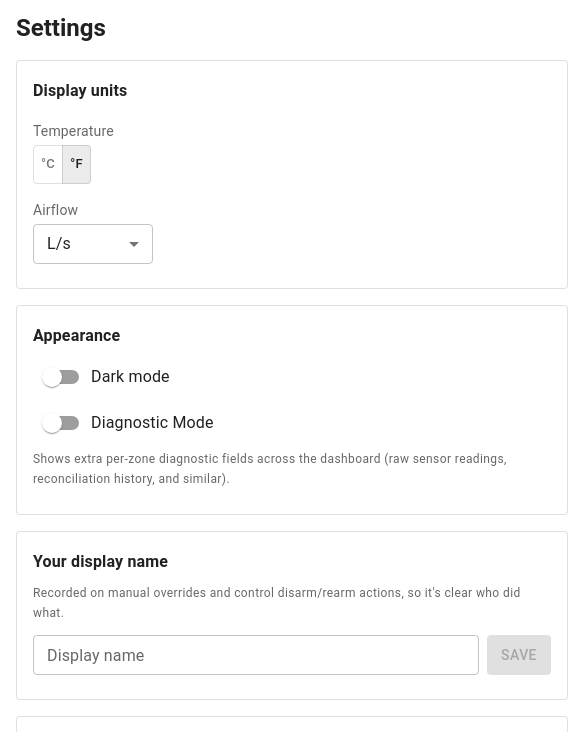
Test case: SettingsPage › switching temperature unit applies immediately and persists per-browser
This screenshot has width=585, height=732.
Click the button "°C" at (48, 164), box [33,145,63,184]
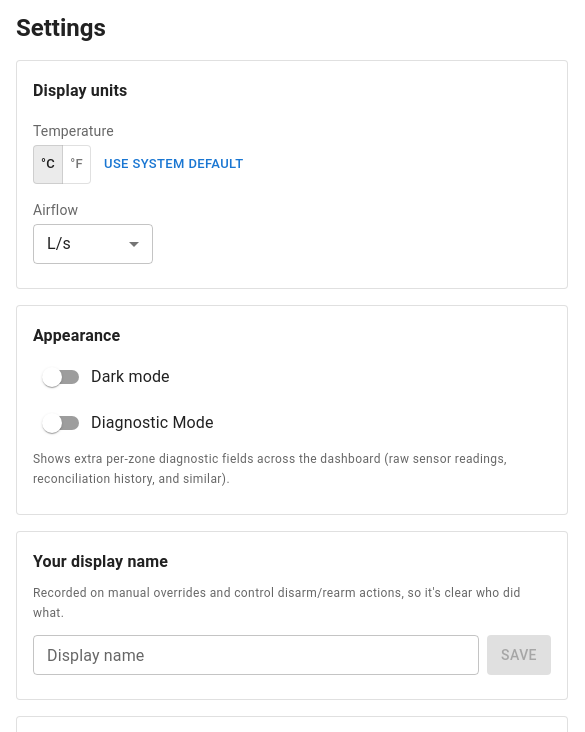
Now the number of buttons "Use system default" is 1, box [99,149,248,180]
